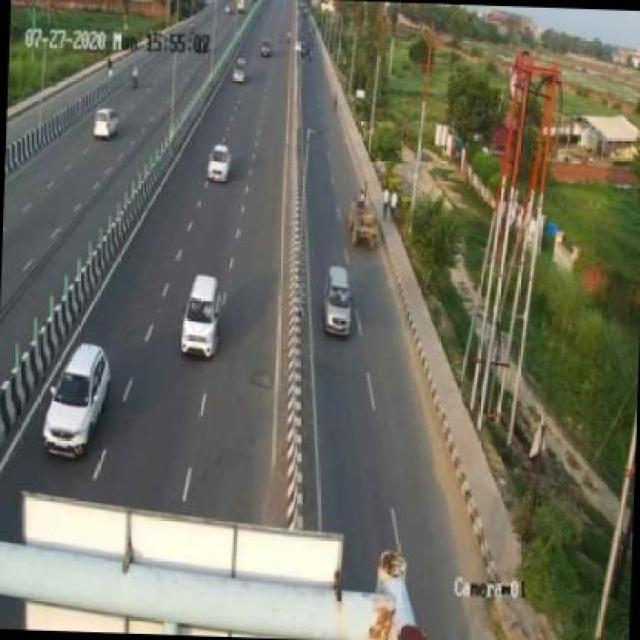car: (29, 332, 123, 462), (174, 269, 228, 362), (312, 262, 358, 343), (208, 143, 230, 183), (94, 108, 118, 142), (231, 54, 252, 88)
